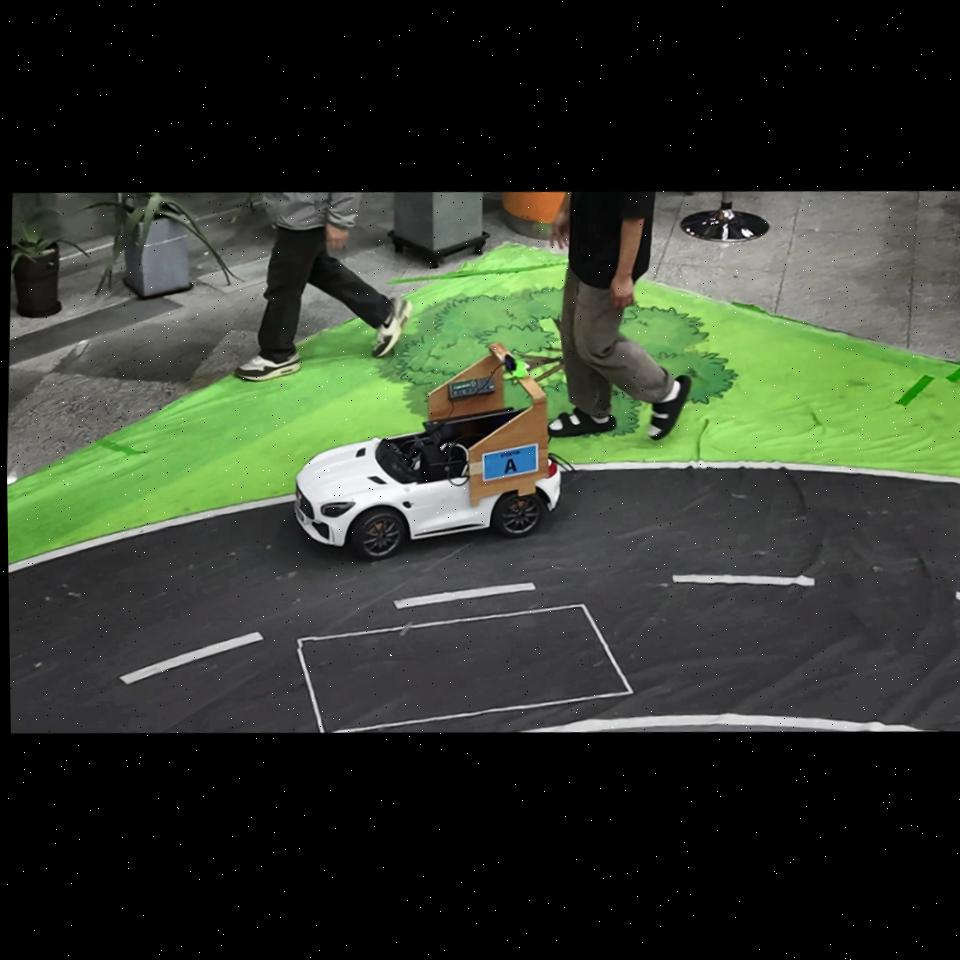broken_line: (120, 632, 265, 684), (394, 582, 536, 609), (672, 575, 815, 586), (956, 592, 960, 599)
